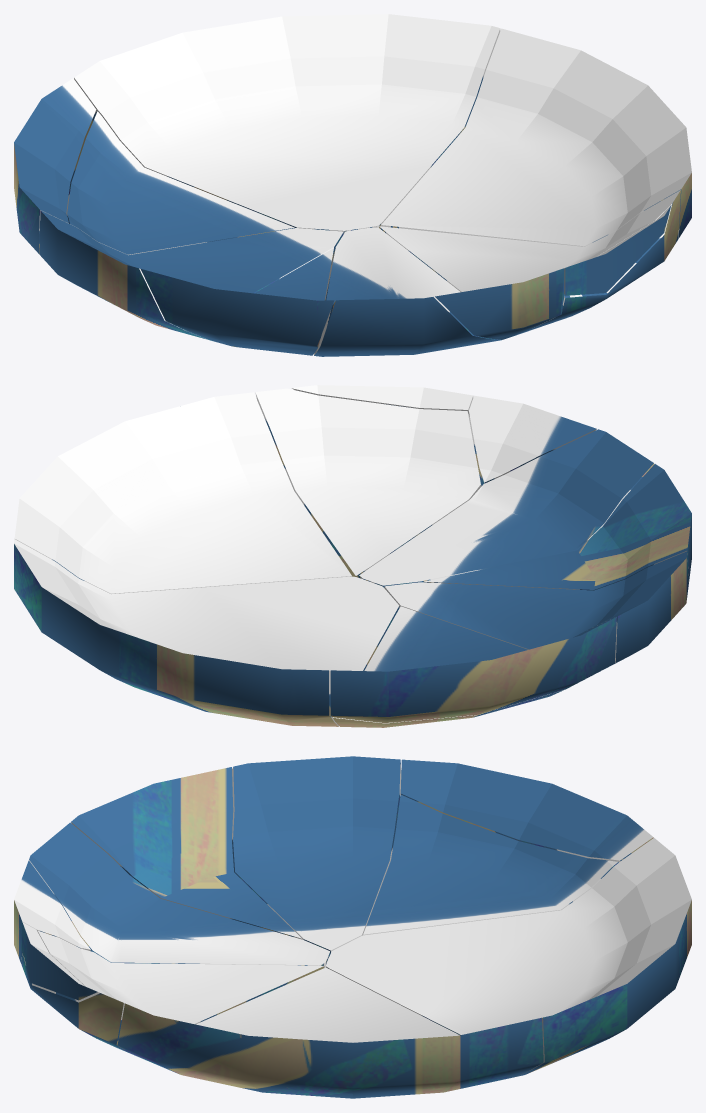
The model's file is Plate2Break.fbx.
3 renders of one model, top to bottom at view 1: azimuth 30°, elevation 25°; view 2: azimuth 150°, elevation 25°; view 3: azimuth 270°, elevation 25°, orthographic.
Visible parts, largest first — view 1: Plate2_cell.006, Plate2_cell.009, Plate2_cell.008, Plate2_cell.005, Plate2_cell.002, Plate2_cell, Plate2_cell.007, Plate2_cell.004, Plate2_cell.003, Plate2_cell.001; view 2: Plate2_cell.009, Plate2_cell.006, Plate2_cell, Plate2_cell.002, Plate2_cell.008, Plate2_cell.004, Plate2_cell.007, Plate2_cell.005, Plate2_cell.003, Plate2_cell.001; view 3: Plate2_cell.006, Plate2_cell.009, Plate2_cell.008, Plate2_cell.005, Plate2_cell.002, Plate2_cell.007, Plate2_cell.004, Plate2_cell, Plate2_cell.003, Plate2_cell.001.
Boxes of the visible parts, left/top/right/bottom form: Plate2_cell.006: left=74, top=14, right=500, bottom=233; Plate2_cell.009: left=381, top=28, right=691, bottom=246; Plate2_cell.008: left=39, top=210, right=343, bottom=339; Plate2_cell.005: left=66, top=111, right=294, bottom=255; Plate2_cell.002: left=314, top=227, right=501, bottom=356; Plate2_cell: left=379, top=190, right=680, bottom=336; Plate2_cell.007: left=140, top=248, right=334, bottom=355; Plate2_cell.004: left=14, top=78, right=96, bottom=253; Plate2_cell.003: left=435, top=268, right=564, bottom=339; Plate2_cell.001: left=564, top=205, right=671, bottom=295; Plate2_cell.009: left=14, top=392, right=351, bottom=594; Plate2_cell.006: left=14, top=539, right=399, bottom=726; Plate2_cell: left=255, top=388, right=484, bottom=577; Plate2_cell.002: left=358, top=429, right=654, bottom=587; Plate2_cell.008: left=384, top=551, right=688, bottom=671; Plate2_cell.004: left=330, top=617, right=616, bottom=722; Plate2_cell.007: left=423, top=464, right=691, bottom=590; Plate2_cell.005: left=332, top=606, right=601, bottom=727; Plate2_cell.003: left=469, top=395, right=596, bottom=483; Plate2_cell.001: left=291, top=385, right=473, bottom=416; Plate2_cell.006: left=326, top=838, right=691, bottom=1076; Plate2_cell.009: left=117, top=967, right=543, bottom=1098; Plate2_cell.008: left=232, top=756, right=401, bottom=953; Plate2_cell.005: left=363, top=795, right=618, bottom=935; Plate2_cell.002: left=29, top=822, right=330, bottom=967; Plate2_cell.007: left=71, top=767, right=301, bottom=939; Plate2_cell.004: left=400, top=759, right=653, bottom=862; Plate2_cell: left=21, top=930, right=324, bottom=1057; Plate2_cell.003: left=14, top=860, right=90, bottom=964; Plate2_cell.001: left=22, top=922, right=97, bottom=1000.
Size of the model in its own units: 102 by 12.57 by 102.
